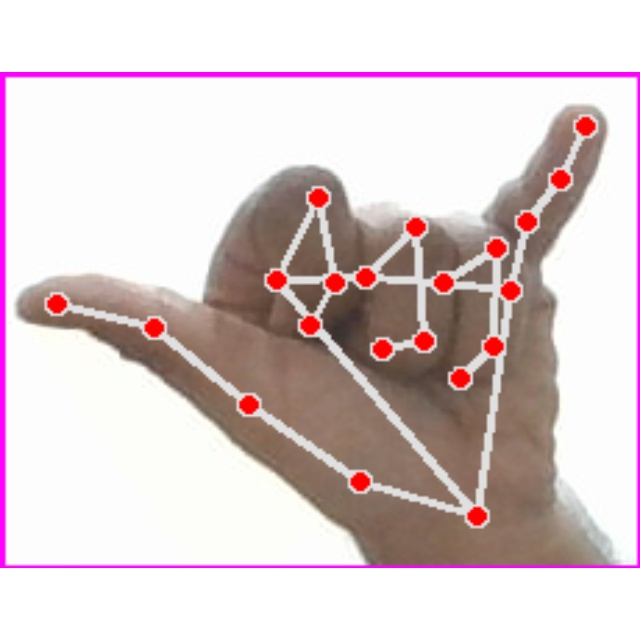Y: (0, 72, 640, 568)
